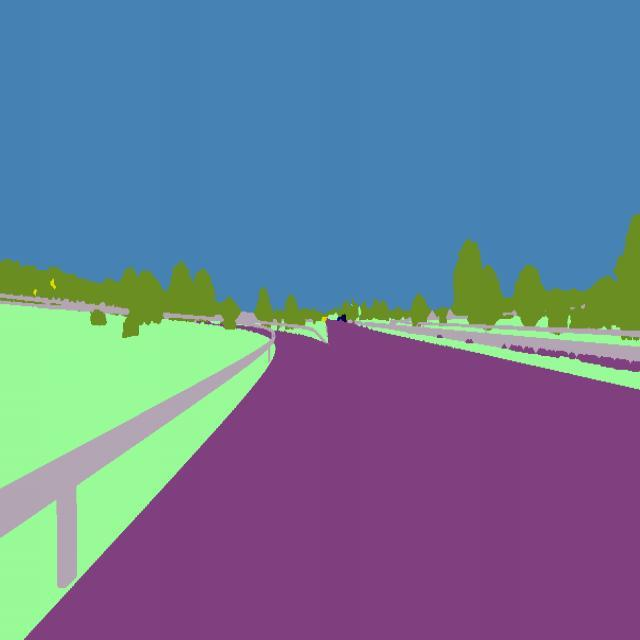safe: (338, 308, 348, 324)
